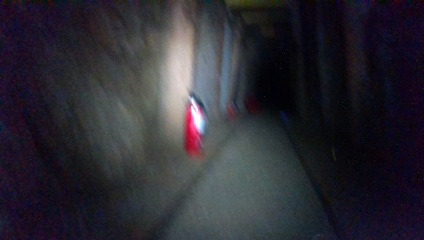backpack: (243, 92, 260, 116)
drill: (224, 95, 240, 123)
fire_extinguisher: (181, 91, 206, 157)
